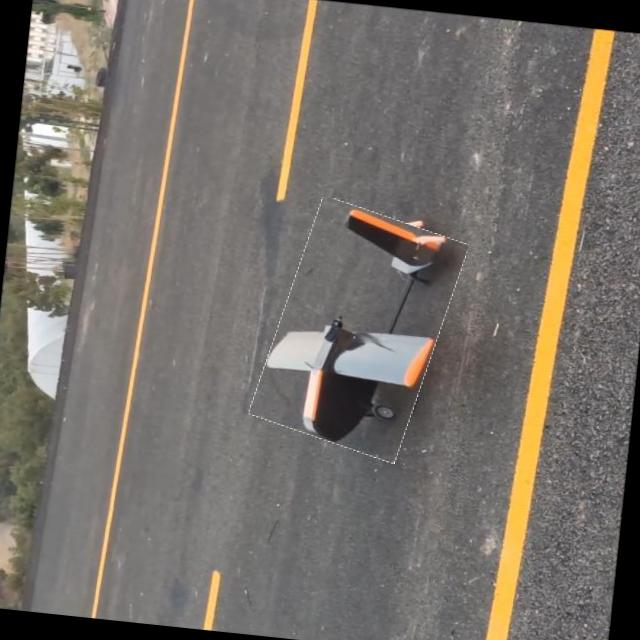UAV: (246, 145, 499, 442)
